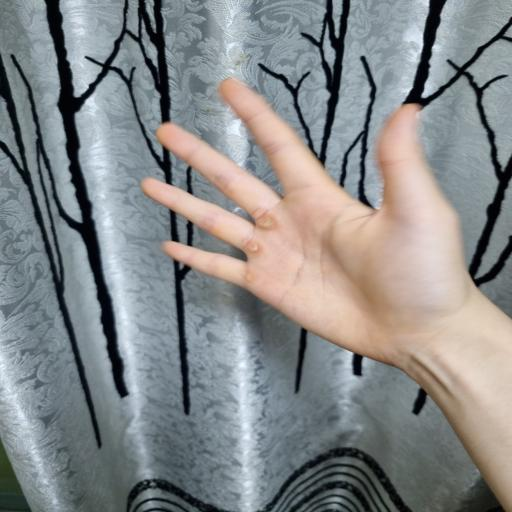Paper: (140, 77, 472, 371)
